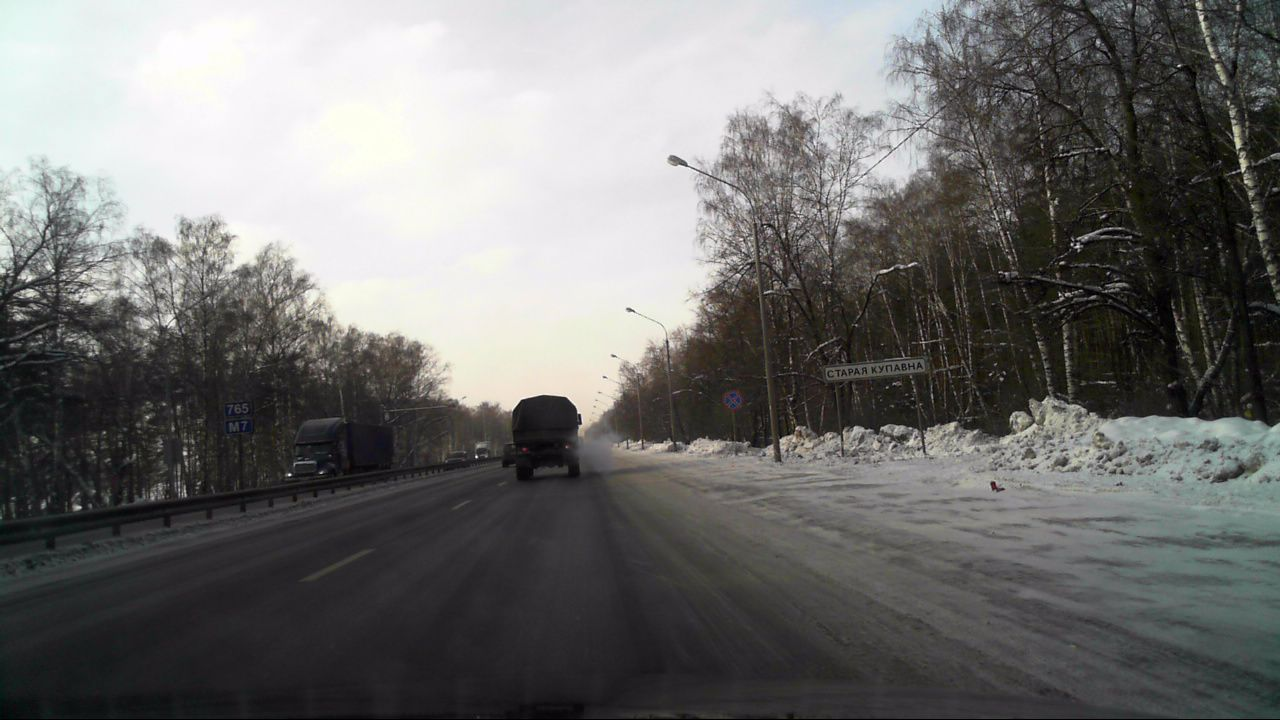No Parking: (722, 389, 741, 409)
